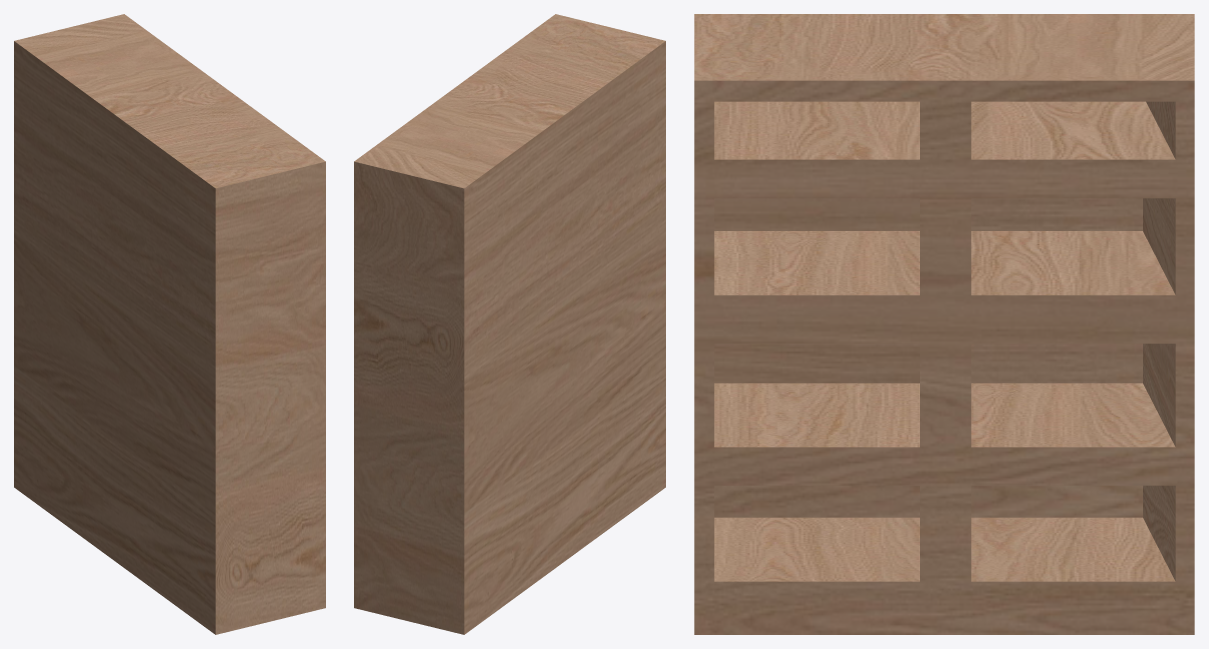
The model's file is mueble2.glb.
3 renders of one model, left to right at view 1: azimuth 30°, elevation 25°; view 2: azimuth 150°, elevation 25°; view 3: azimuth 270°, elevation 25°, orthographic. The views are drawn at different scales.
Parts seen in each view (by area): view 1: Object_2; view 2: Object_2; view 3: Object_2.
Part boxes in pixels (<box>): Object_2: <box>14,14,325,634</box>; Object_2: <box>354,14,665,634</box>; Object_2: <box>694,14,1194,634</box>.
Size of the model in its own units: 1.3 by 5.01 by 4.1.
Materials: 1 (1 with a texture image).
